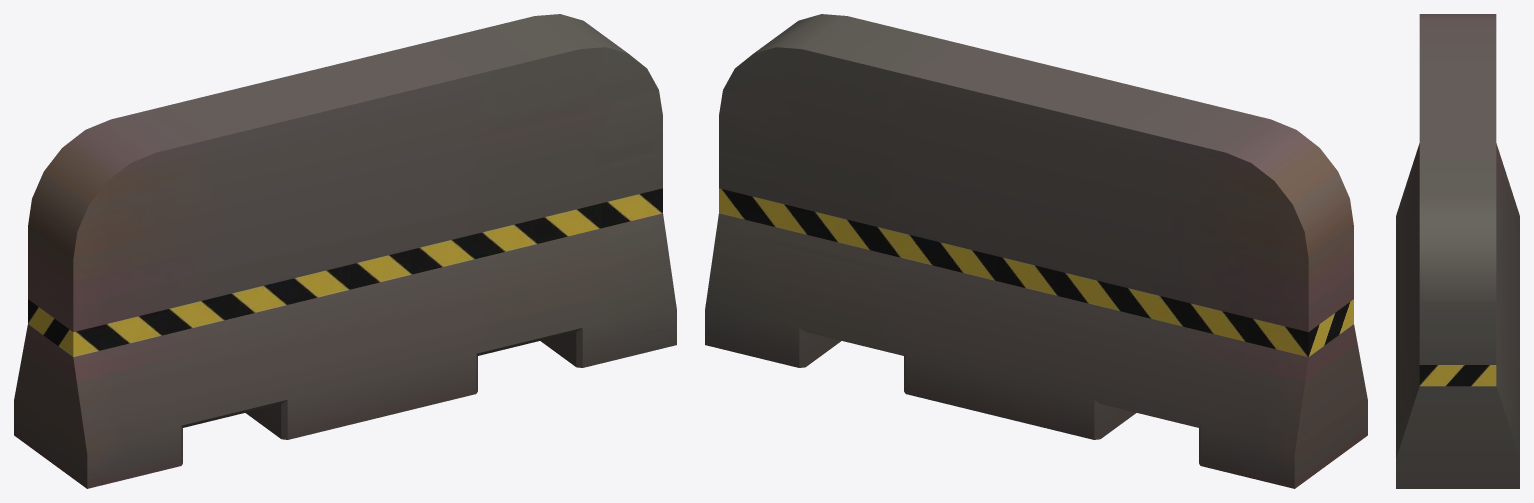
Rendered from concrete-barrier.glb.
The picture shows the model from 3 angles, left to right: view 1: azimuth 30°, elevation 25°; view 2: azimuth 150°, elevation 25°; view 3: azimuth 270°, elevation 25°; orthographic projection. The views are drawn at different scales.
Parts seen in each view (by area): view 1: concrete_barrier; view 2: concrete_barrier; view 3: concrete_barrier.
Boxes of the visible parts, box(x1,y1,x2,y2) form: concrete_barrier: box(14, 14, 676, 488); concrete_barrier: box(705, 14, 1367, 488); concrete_barrier: box(1396, 14, 1519, 488).
Bounding box in the file's own units: 1.28 × 0.6345 × 0.275.
1 material, 1 textured.
